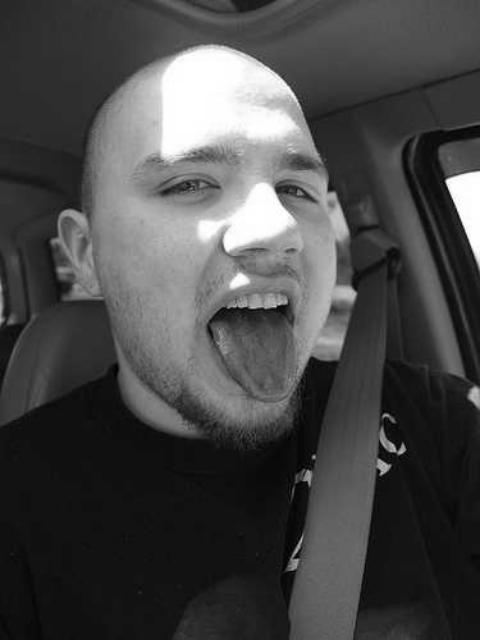SafeDriving: (145, 160, 231, 207), (263, 162, 329, 212)
Seatbelt: (285, 224, 403, 640)
